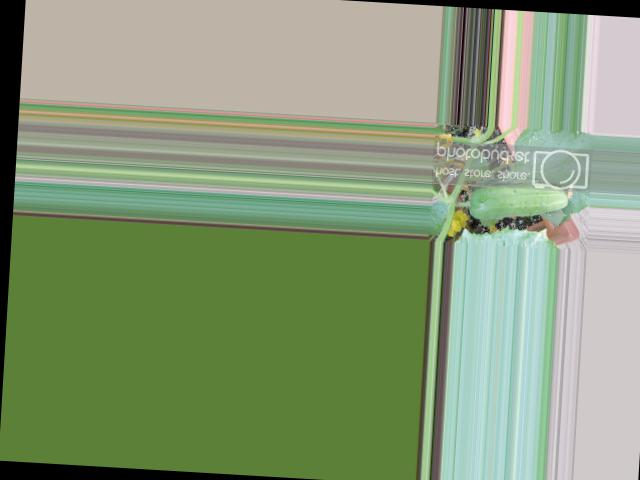cucumber: (469, 179, 570, 224)
